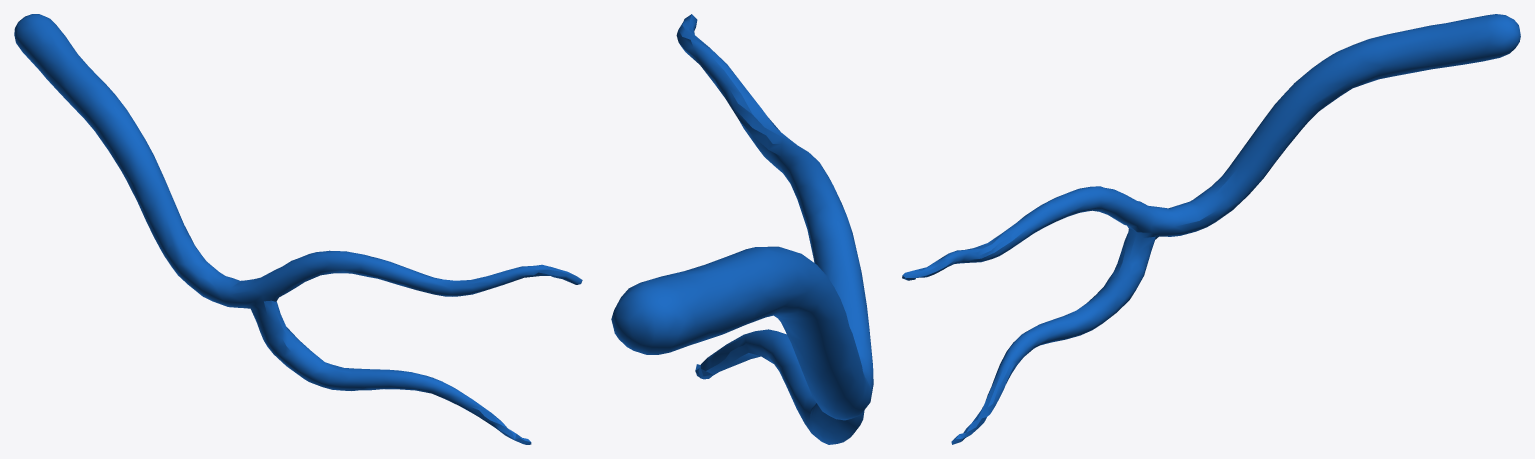
Rendered from vena_kecil.glb.
3 renders of one model, left to right at view 1: azimuth 30°, elevation 25°; view 2: azimuth 150°, elevation 25°; view 3: azimuth 270°, elevation 25°, orthographic. The views are drawn at different scales.
Visible parts, largest first — view 1: MM437_BP51980_FMA3815_First anterior ventricular branch of r; view 2: MM437_BP51980_FMA3815_First anterior ventricular branch of r; view 3: MM437_BP51980_FMA3815_First anterior ventricular branch of r.
Part boxes in pixels (<box>): MM437_BP51980_FMA3815_First anterior ventricular branch of r: <box>14,14,582,444</box>; MM437_BP51980_FMA3815_First anterior ventricular branch of r: <box>611,14,873,444</box>; MM437_BP51980_FMA3815_First anterior ventricular branch of r: <box>902,14,1520,444</box>.
Bounding box in the file's own units: 0.0219 × 0.0218 × 0.0396.
